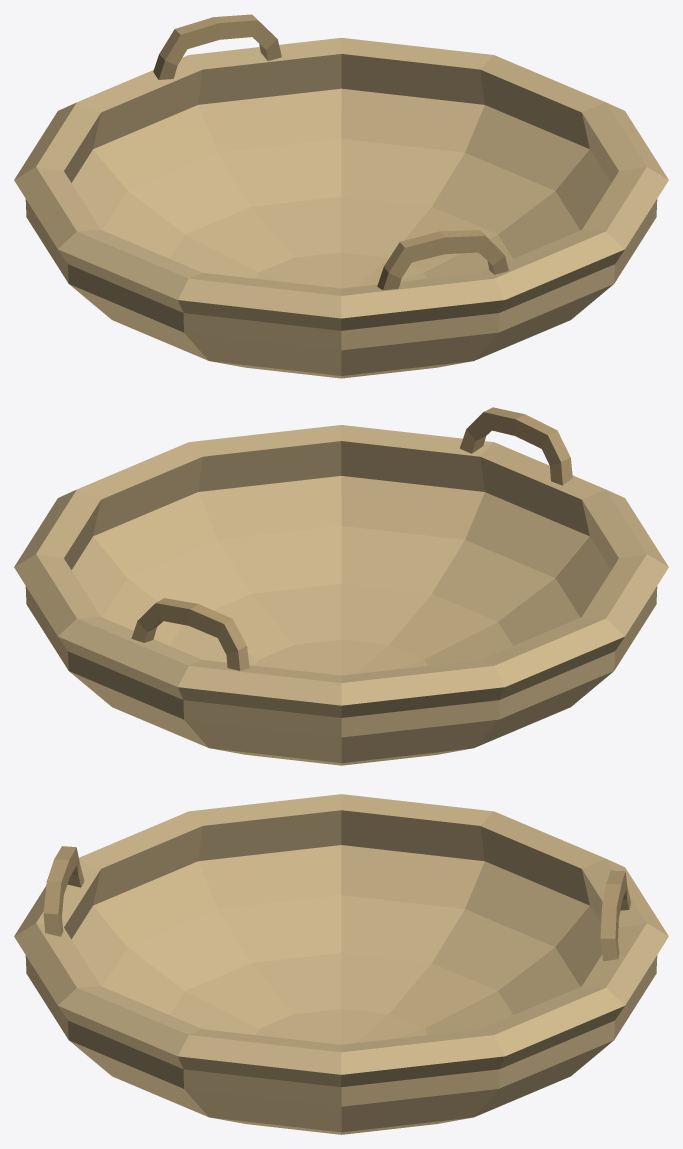
Rendered from SM_Prop_Basket_05.fbx.
The picture shows the model from 3 angles, top to bottom: view 1: azimuth 30°, elevation 25°; view 2: azimuth 150°, elevation 25°; view 3: azimuth 270°, elevation 25°; orthographic projection.
Parts seen in each view (by area): view 1: SM_Prop_Basket_05; view 2: SM_Prop_Basket_05; view 3: SM_Prop_Basket_05.
Part boxes in pixels (x1,y1,x2,y2): SM_Prop_Basket_05: [14, 14, 668, 378]; SM_Prop_Basket_05: [14, 407, 668, 765]; SM_Prop_Basket_05: [14, 794, 668, 1134].
Bounding box in the file's own units: 175 × 60.13 × 175.
